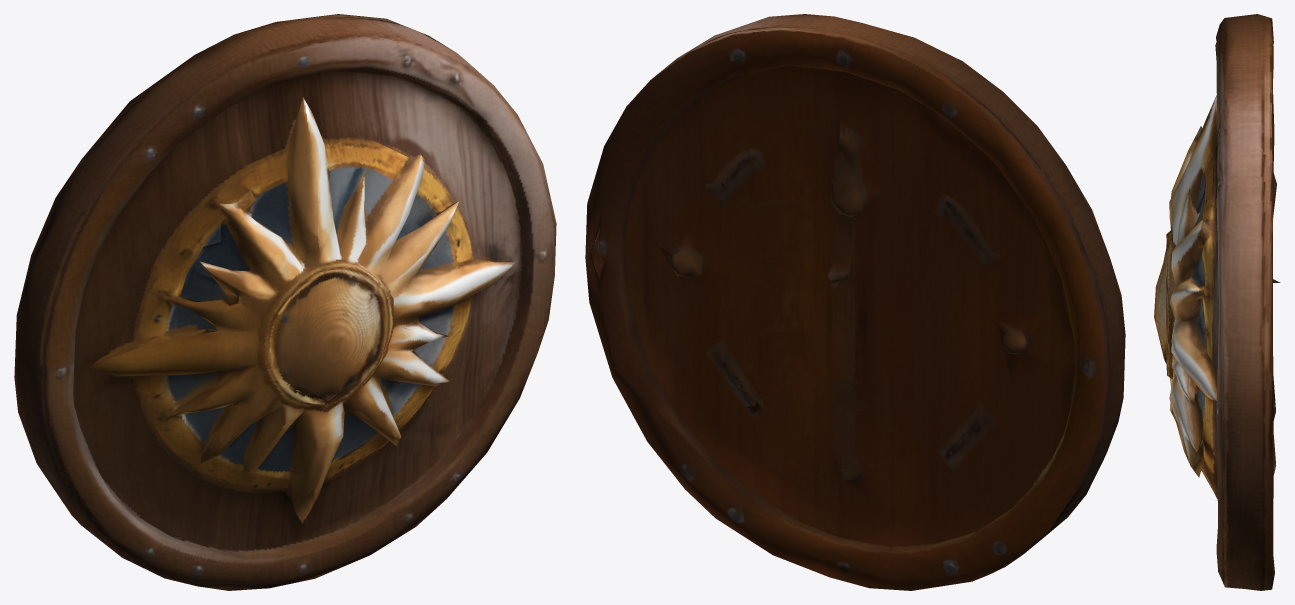
File: shield.glb
3 renders of one model, left to right at view 1: azimuth 30°, elevation 25°; view 2: azimuth 150°, elevation 25°; view 3: azimuth 270°, elevation 25°, orthographic. The views are drawn at different scales.
Parts seen in each view (by area): view 1: geometry_0; view 2: geometry_0; view 3: geometry_0.
Boxes of the visible parts, bbox=[...] form: geometry_0: bbox=[14, 14, 556, 590]; geometry_0: bbox=[585, 14, 1125, 590]; geometry_0: bbox=[1154, 14, 1280, 590].
Size of the model in its own units: 1 by 0.9997 by 0.2213.
Materials: 1 (1 with a texture image).
